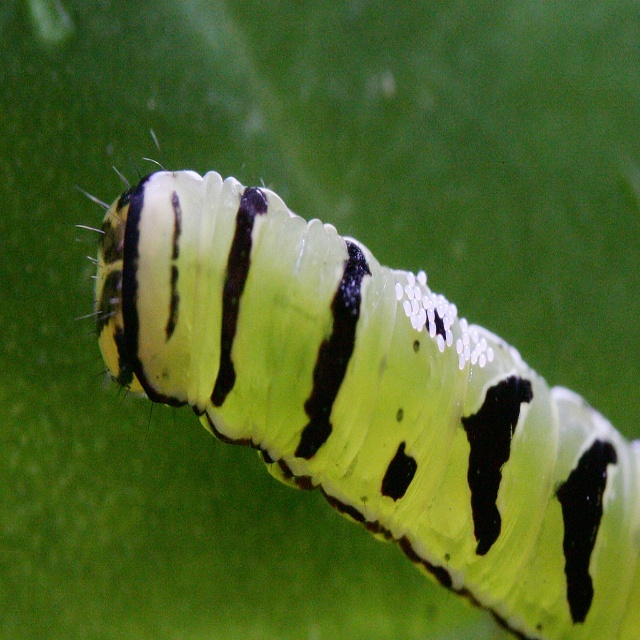Caterpillar: (74, 130, 640, 640)
